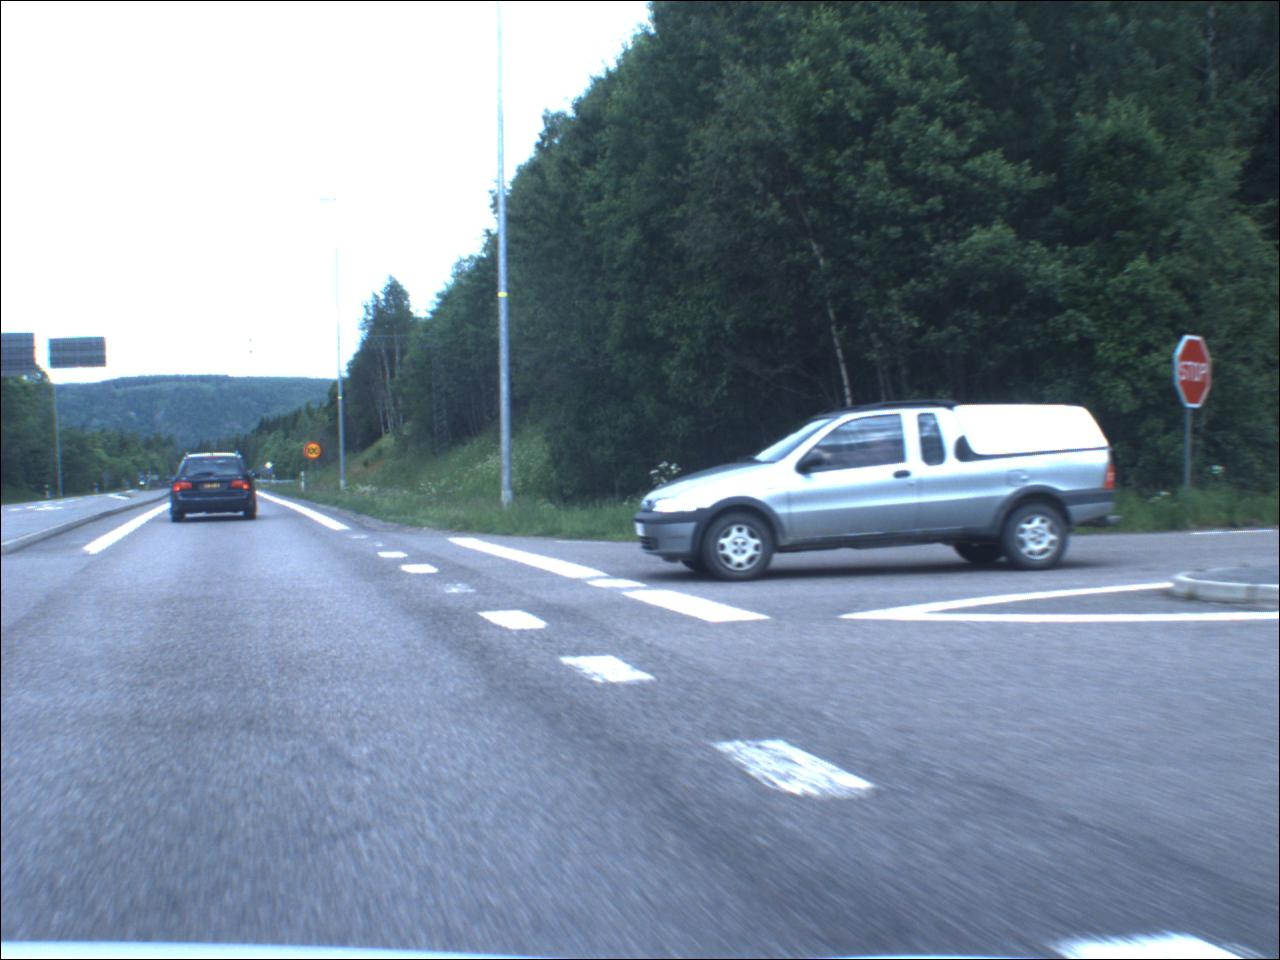100_SIGN: (305, 442, 326, 463)
PRIORITY_ROAD: (266, 462, 276, 472)
STOP: (1176, 333, 1215, 413)
